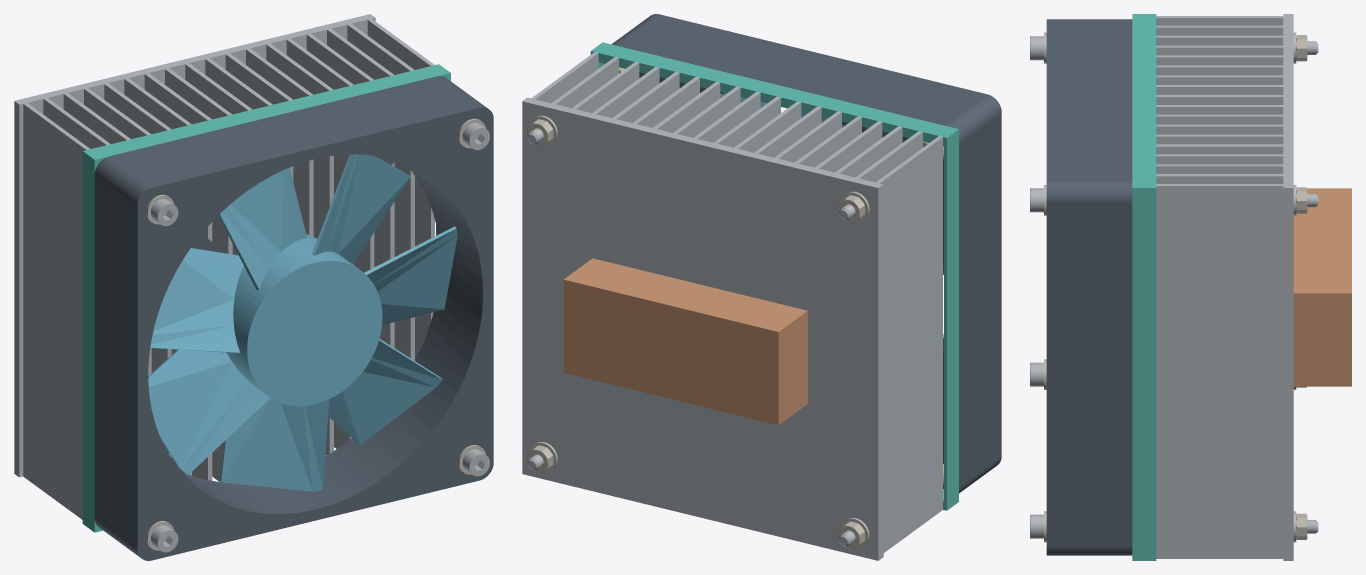
The model's file is fan-cooling-public.glb.
3 views of the same model, side by side, from view 1: azimuth 30°, elevation 25°; view 2: azimuth 150°, elevation 25°; view 3: azimuth 270°, elevation 25° (orthographic).
Parts seen in each view (by area): view 1: FanHousing, FanRotor, HeatSink, Shroud; view 2: HeatSink, FanHousing, HeaterEnvelope, Shroud; view 3: HeatSink, FanHousing, Shroud, HeaterEnvelope, Bolt_4, Bolt_2, Bolt_3.
Part boxes in pixels (box(x1,y1,x2,y2)): FanHousing: box(94, 76, 493, 560); FanRotor: box(148, 154, 457, 491); HeatSink: box(14, 14, 434, 519); Shroud: box(82, 64, 450, 532); HeatSink: box(522, 52, 942, 560); FanHousing: box(611, 14, 1001, 493); HeaterEnvelope: box(563, 258, 807, 425); Shroud: box(590, 42, 958, 510); HeatSink: box(1156, 14, 1293, 560); FanHousing: box(1046, 19, 1132, 555); Shroud: box(1132, 14, 1156, 560); HeaterEnvelope: box(1293, 188, 1351, 386); Bolt_4: box(1030, 188, 1318, 212); Bolt_2: box(1030, 36, 1318, 60); Bolt_3: box(1030, 514, 1318, 538).
Bounding box in the file's own units: 0.12 × 0.12 × 0.0938.
